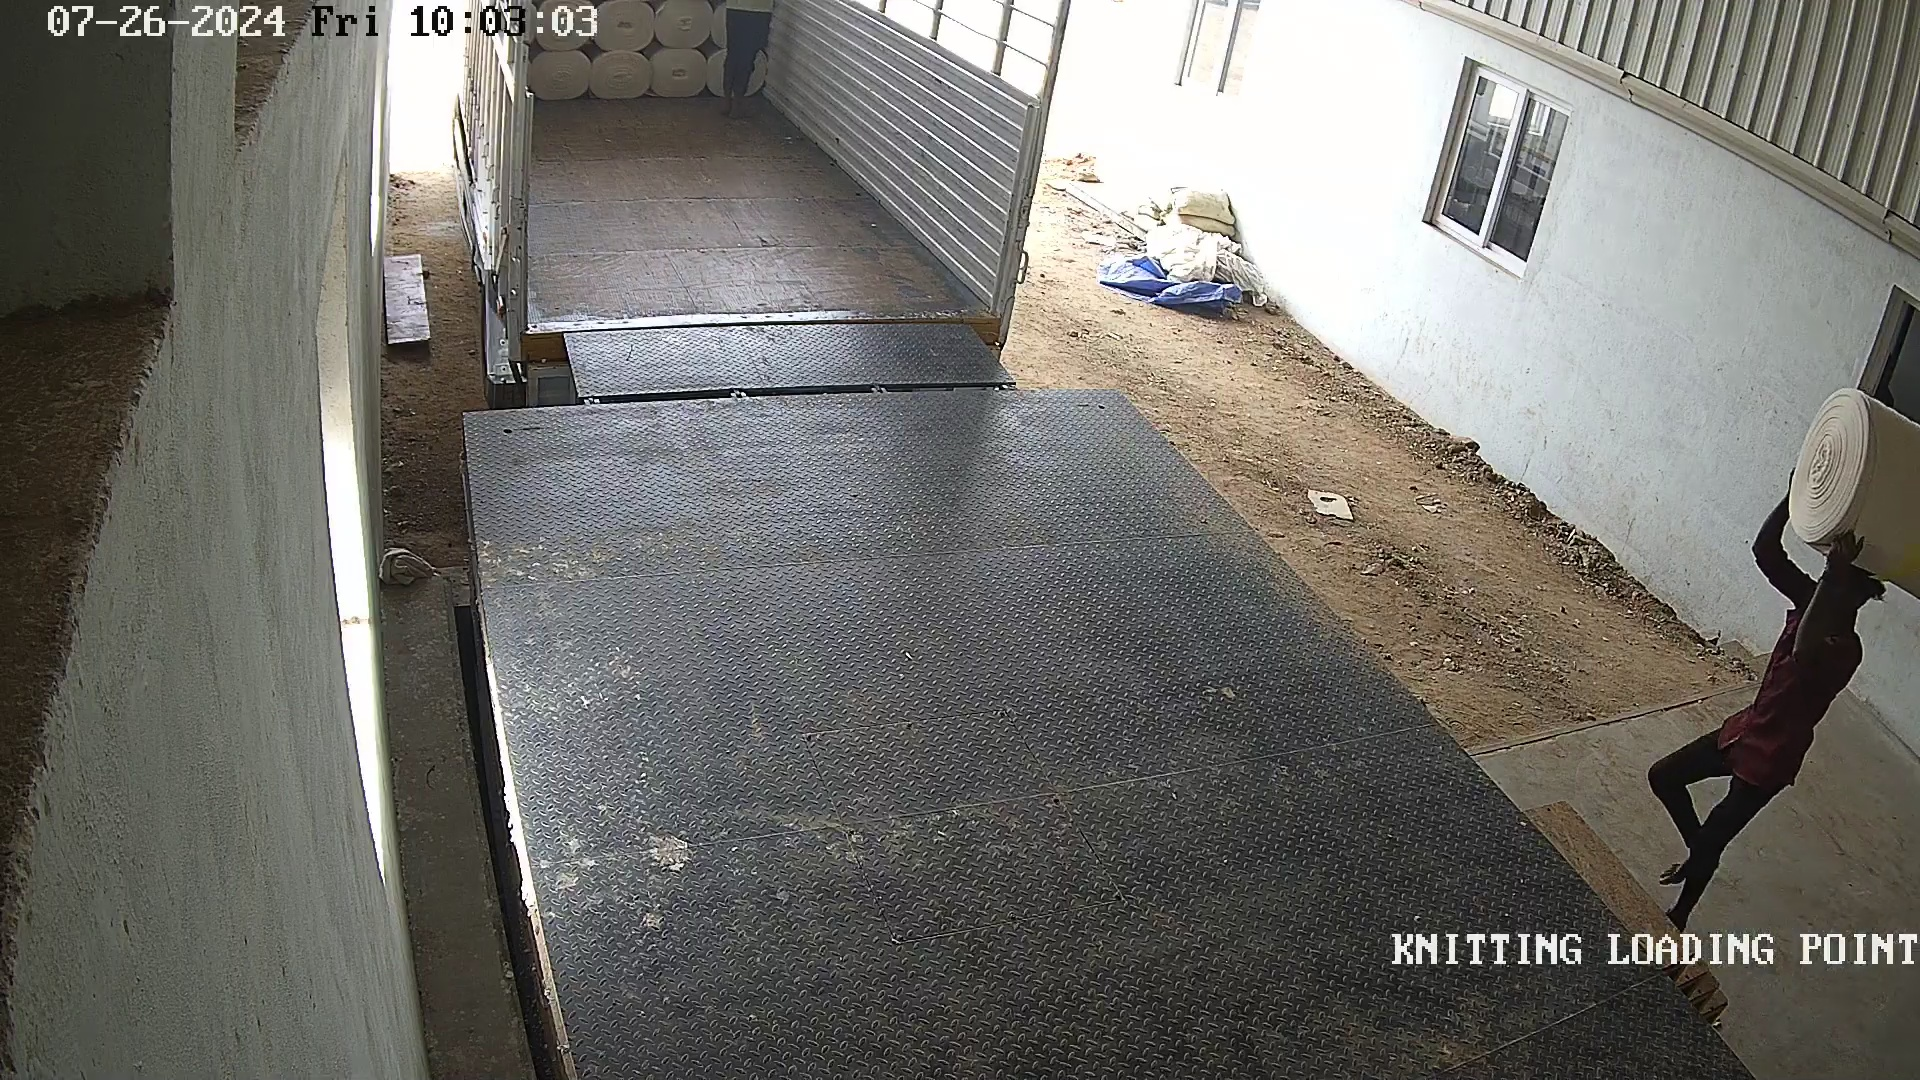bag: (1782, 382, 1920, 616)
